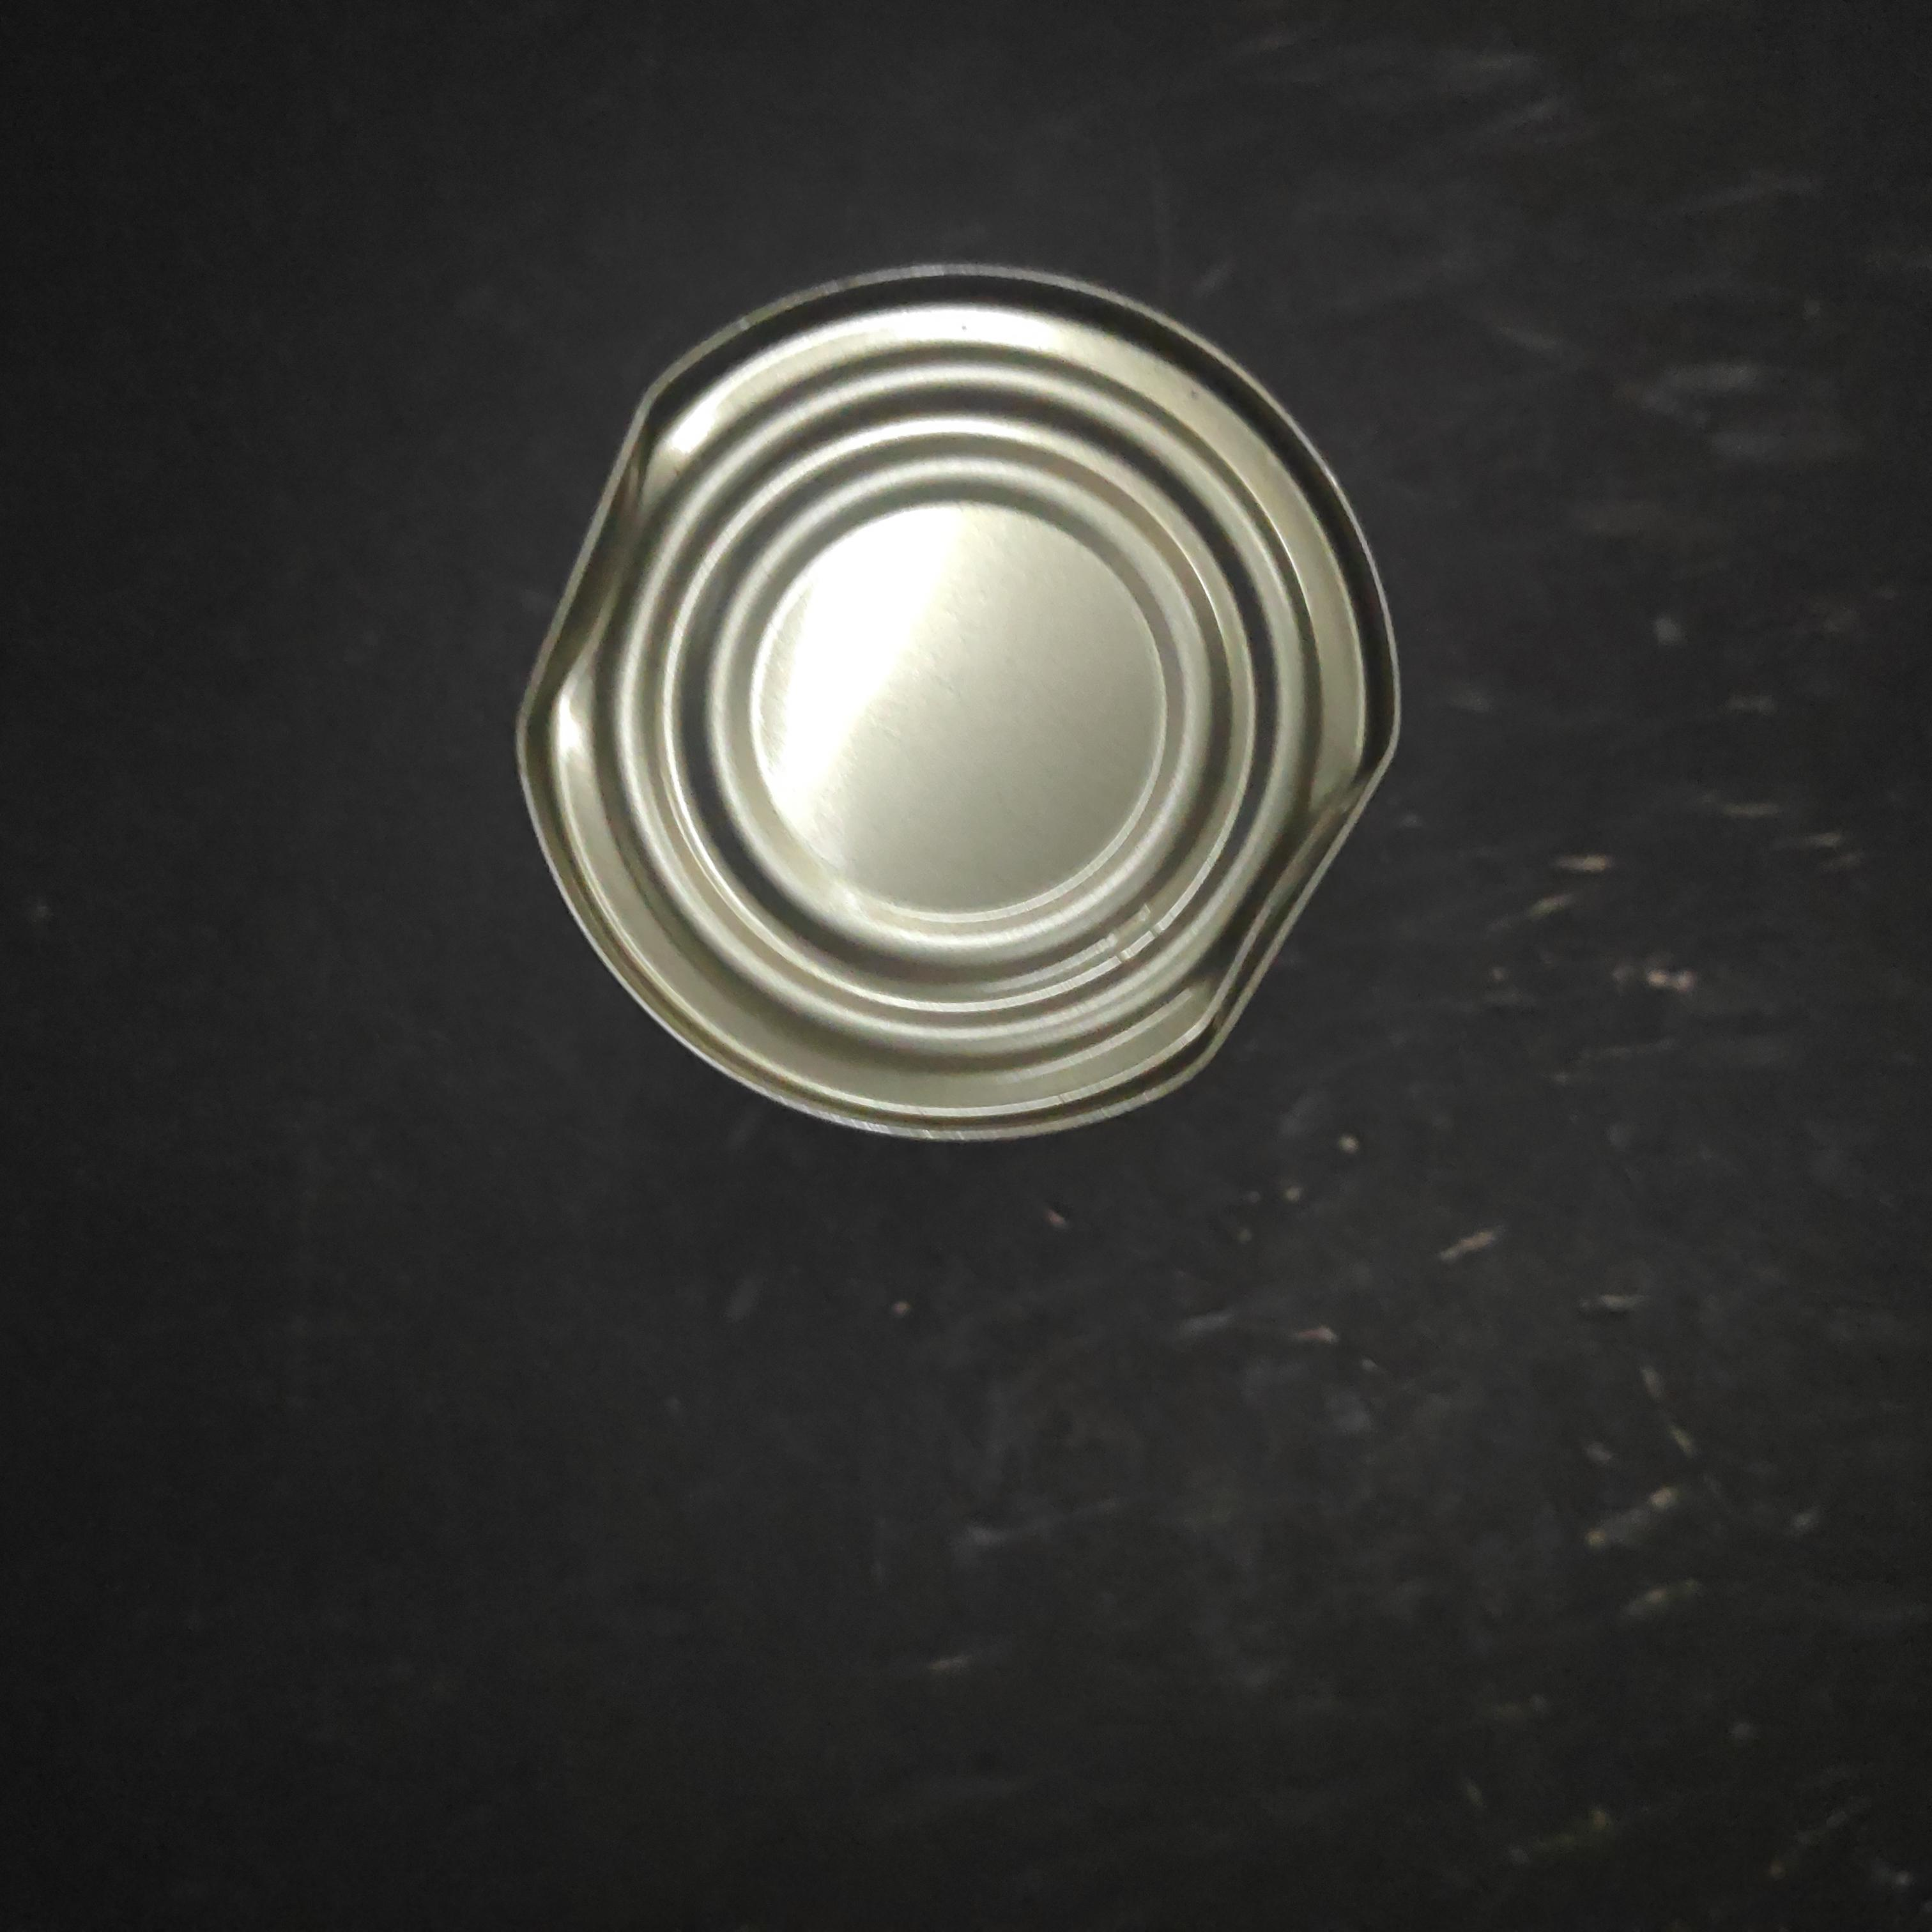Minor Defect: (503, 247, 1410, 1153)
